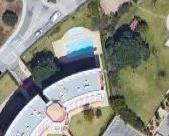pool: (64, 37, 94, 59)
